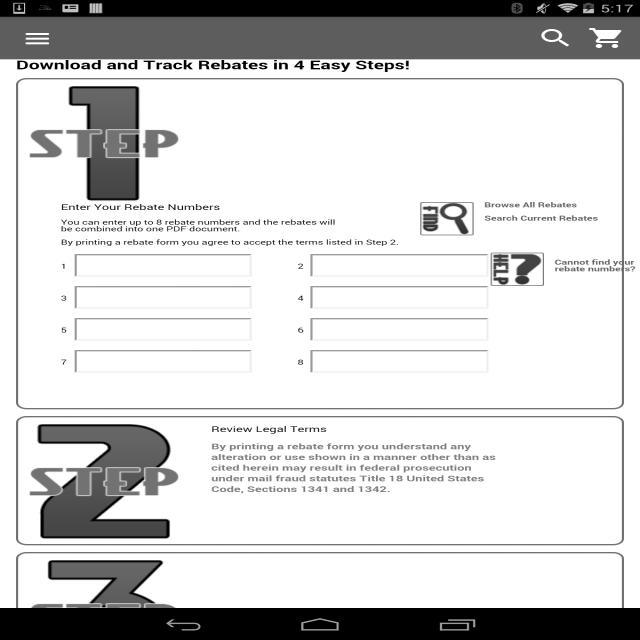Button: (66, 630, 355, 640)
EditText: (310, 254, 490, 277), (310, 286, 490, 309), (310, 318, 490, 341), (310, 350, 490, 373), (75, 254, 252, 277), (75, 286, 252, 309), (75, 318, 252, 341), (75, 350, 252, 373)
ImageButton: (9, 17, 68, 59)
ImageView: (524, 22, 588, 54), (588, 26, 631, 50)
